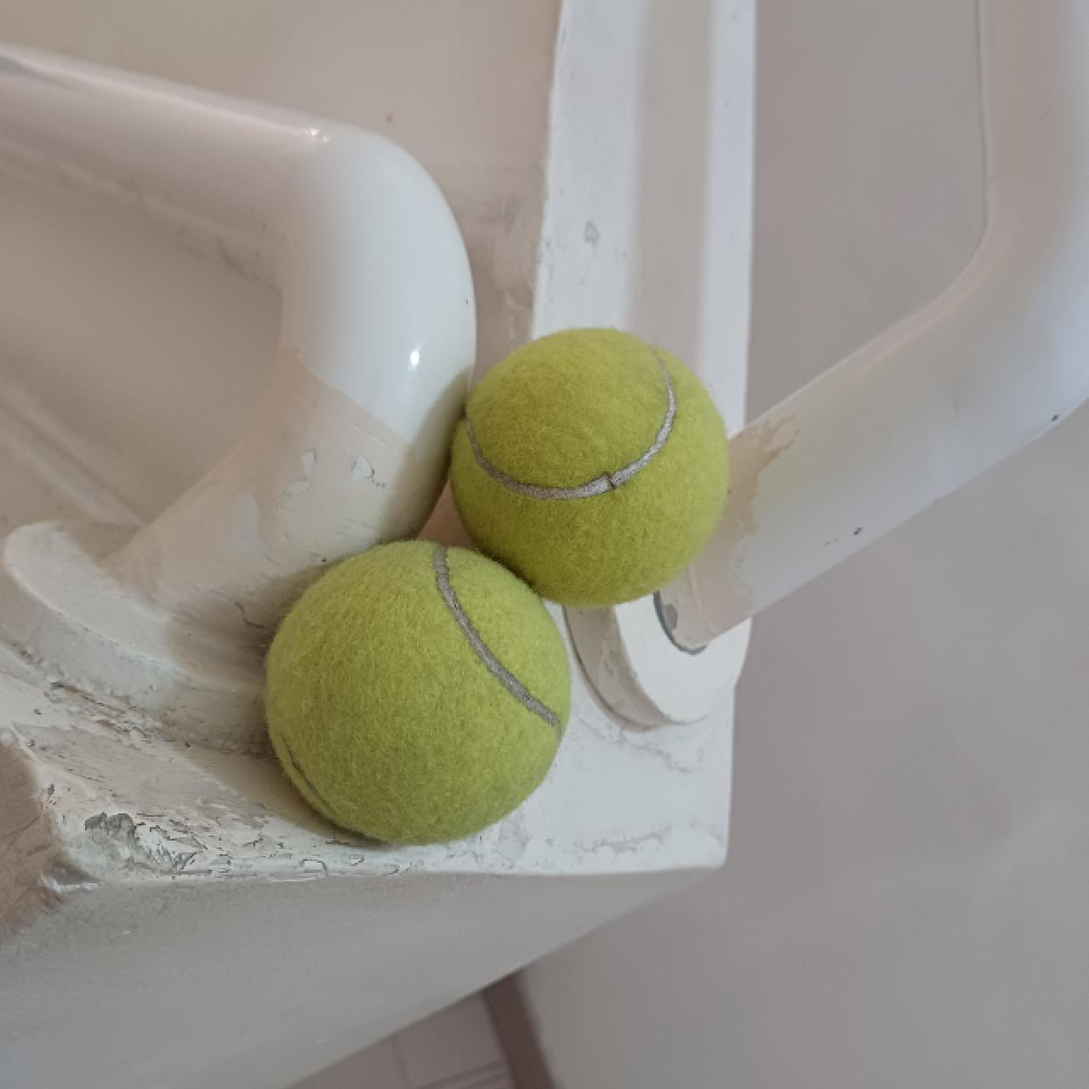tennis-ball: (260, 542, 576, 846), (449, 323, 738, 605)
